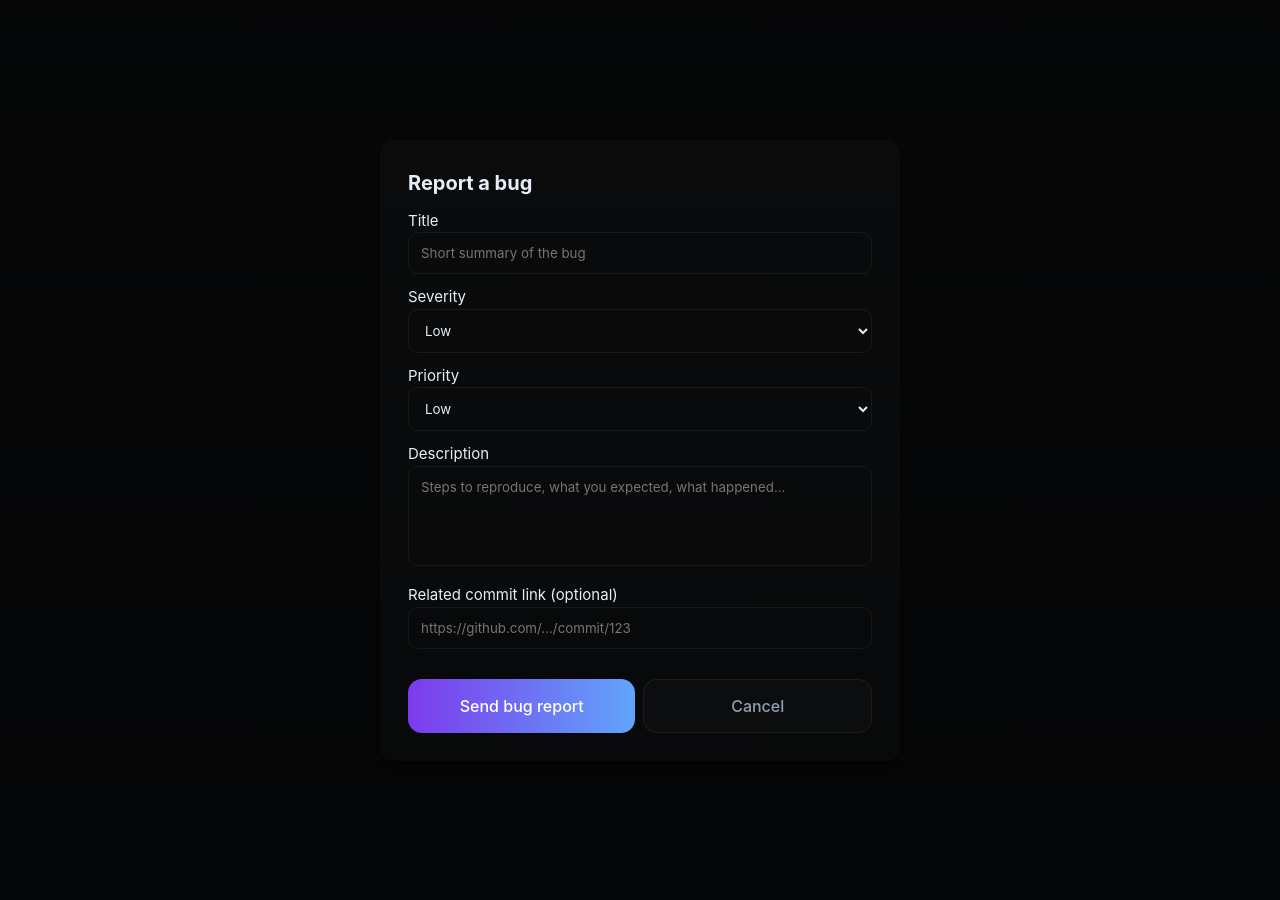
it: AddBugModal › keeps the modal open and shows the reason when reporting fails
The width and height of the screenshot is (1280, 900).
Type "Crash" into the field labelled "Title" at (640, 253), box [408,232,872,274]
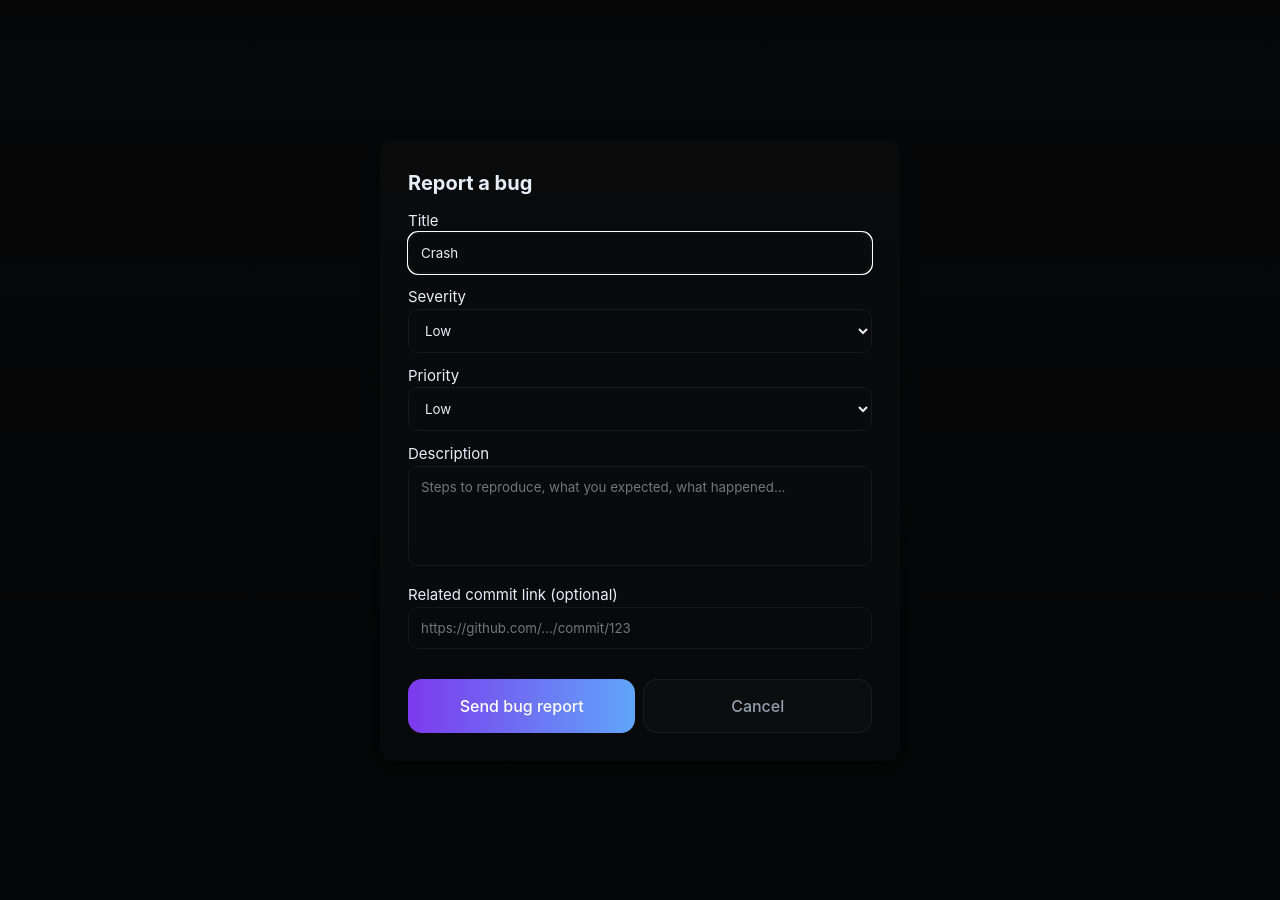
Type "App crashes on save." into the text box labelled "Description" at (640, 516), box [408,466,872,566]
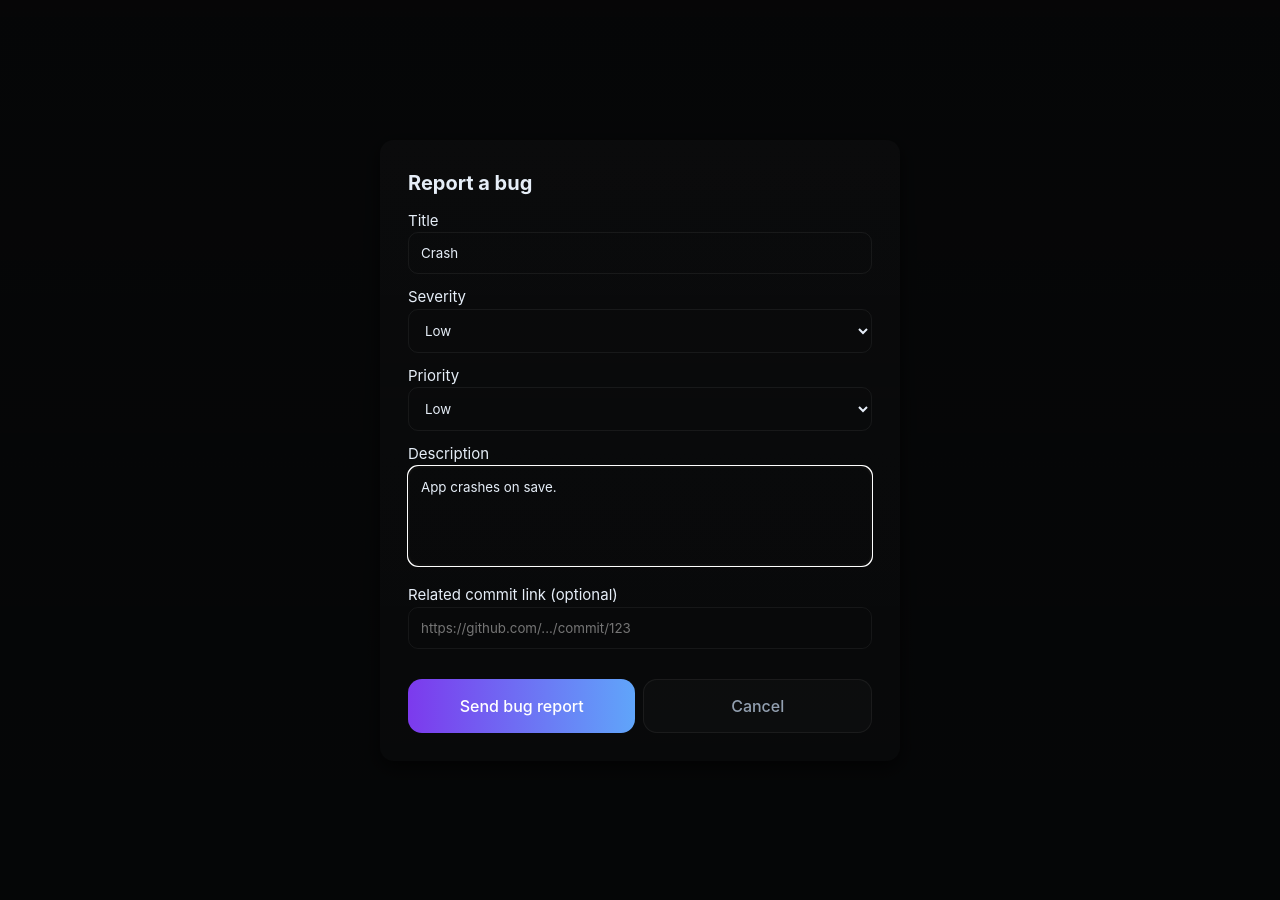
Type "https://example.com/x" into the field labelled "Related commit link (optional)" at (640, 628), box [408,606,872,648]
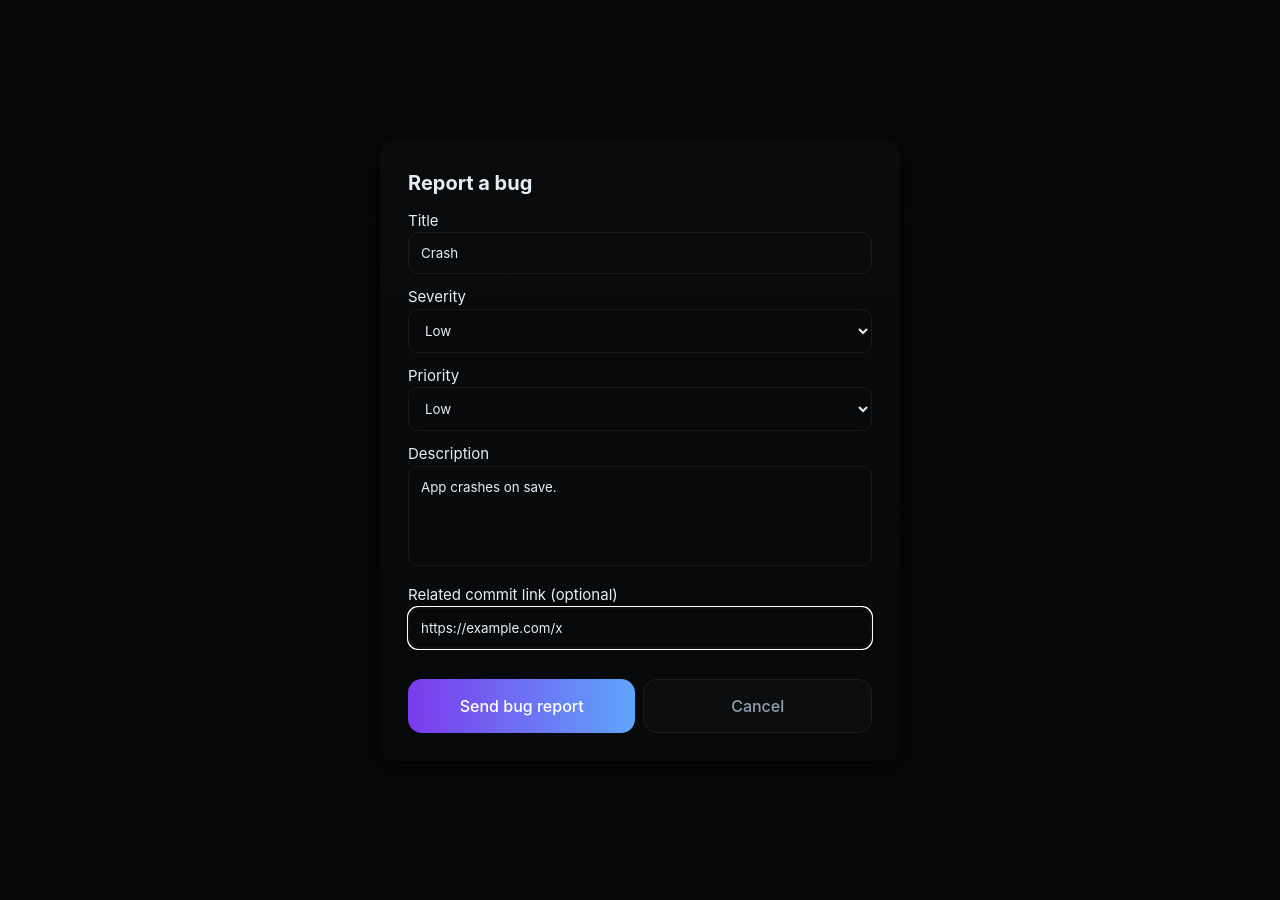
Click the button "Send bug report" at (522, 706), box [408,678,636,732]
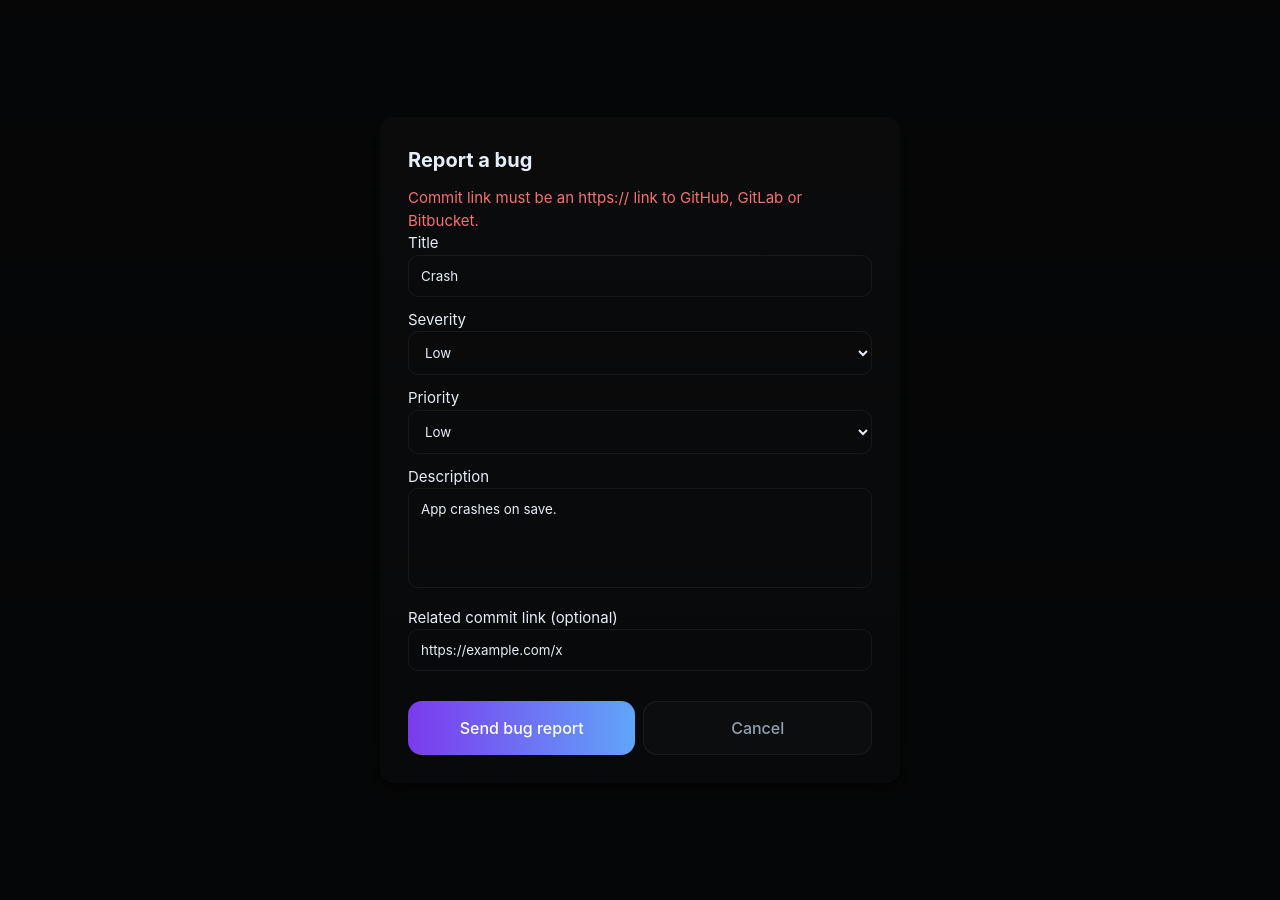
Now the message shows "Commit link must be an https:// link", box [408,188,802,230]
